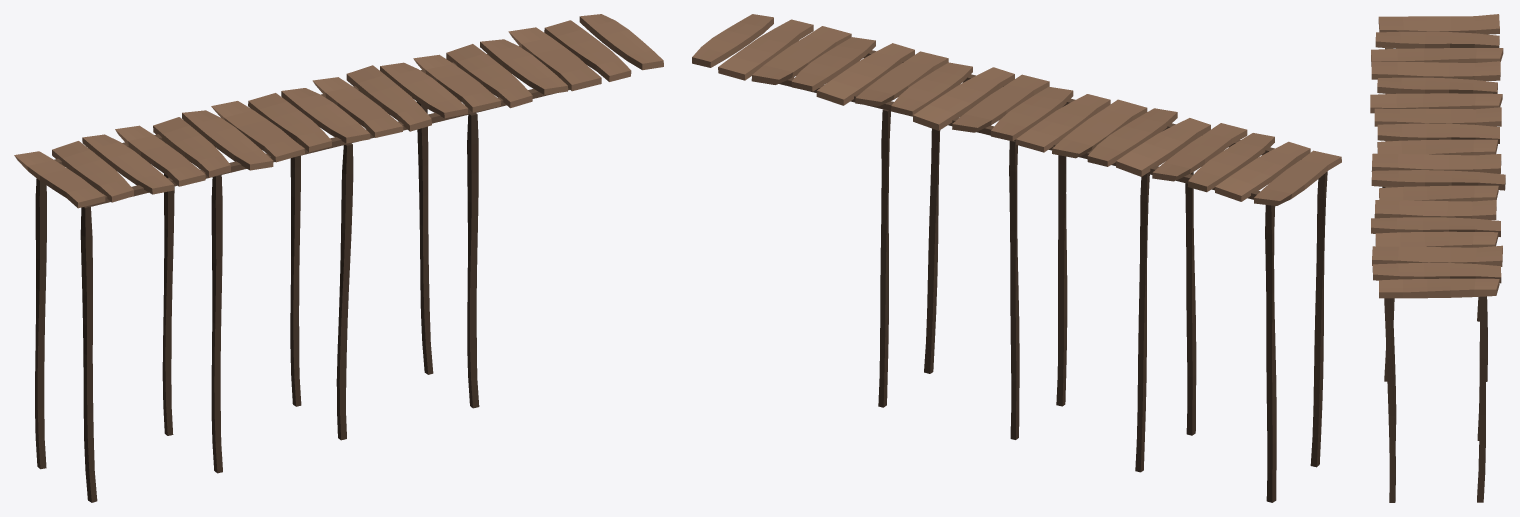
File: brygga.fbx
The picture shows the model from 3 angles, left to right: view 1: azimuth 30°, elevation 25°; view 2: azimuth 150°, elevation 25°; view 3: azimuth 270°, elevation 25°; orthographic projection. The views are drawn at different scales.
Visible parts, largest first — view 1: Random_1; view 2: Random_1; view 3: Random_1.
Part boxes in pixels (x1,y1,x2,y2): Random_1: (14,14,663,502); Random_1: (692,14,1341,502); Random_1: (1370,14,1505,502).
Size of the model in its own units: 1038 by 523 by 215.
